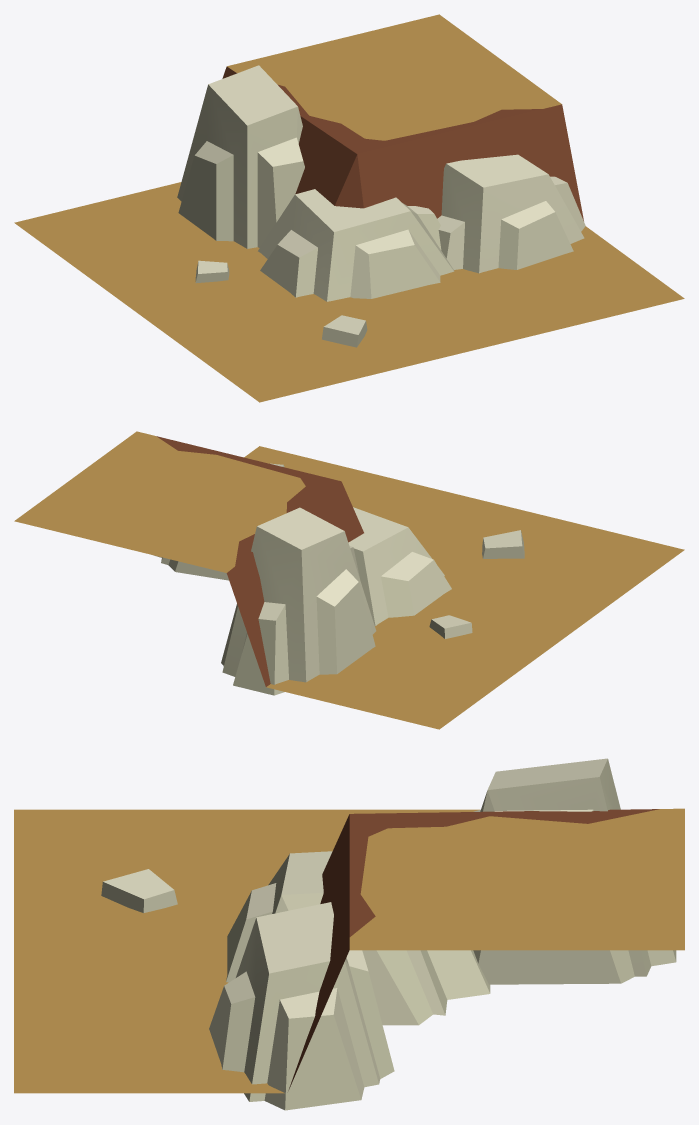
Rendered from SA_Sand_Hill_Corner.fbx.
3 views of the same model, one above another, from view 1: azimuth 30°, elevation 25°; view 2: azimuth 150°, elevation 25°; view 3: azimuth 270°, elevation 25° (orthographic). The views are drawn at different scales.
Visible parts, largest first — view 1: SA_Sand_HillCorner; view 2: SA_Sand_HillCorner; view 3: SA_Sand_HillCorner.
Part boxes in pixels (x1,y1,x2,y2): SA_Sand_HillCorner: (14,14,684,402); SA_Sand_HillCorner: (14,431,684,729); SA_Sand_HillCorner: (14,758,684,1110).
Bounding box in the file's own units: 15.15 × 4.7 × 15.
